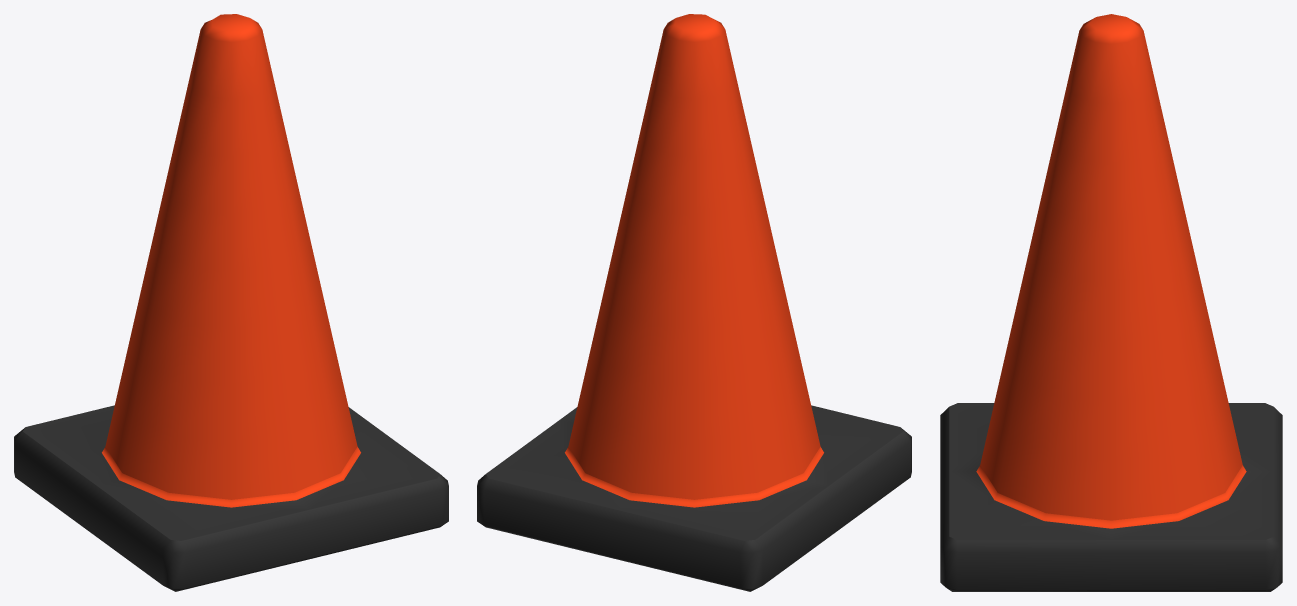
The picture shows the model from 3 angles, left to right: view 1: azimuth 30°, elevation 25°; view 2: azimuth 150°, elevation 25°; view 3: azimuth 270°, elevation 25°; orthographic projection. The views are drawn at different scales.
Visible parts, largest first — view 1: orangeCone:polySurface3; view 2: orangeCone:polySurface3; view 3: orangeCone:polySurface3.
Boxes of the visible parts, bbox=[...] form: orangeCone:polySurface3: bbox=[14, 14, 448, 591]; orangeCone:polySurface3: bbox=[477, 14, 911, 591]; orangeCone:polySurface3: bbox=[940, 14, 1282, 591].
Bounding box in the file's own units: 0.0309 × 0.05 × 0.0309.
